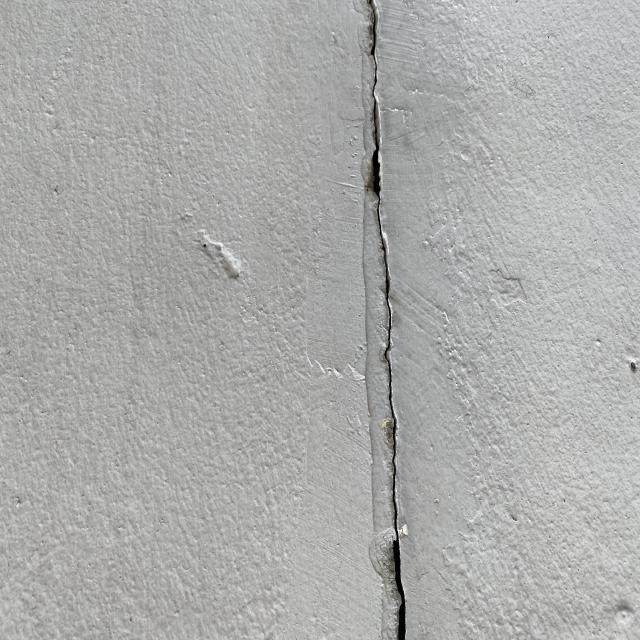SurfaceCrack: (354, 1, 447, 640)
